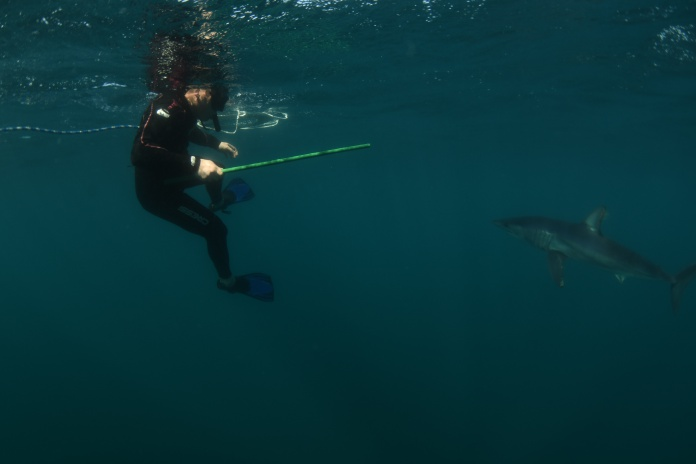Mako: (470, 197, 696, 324)
